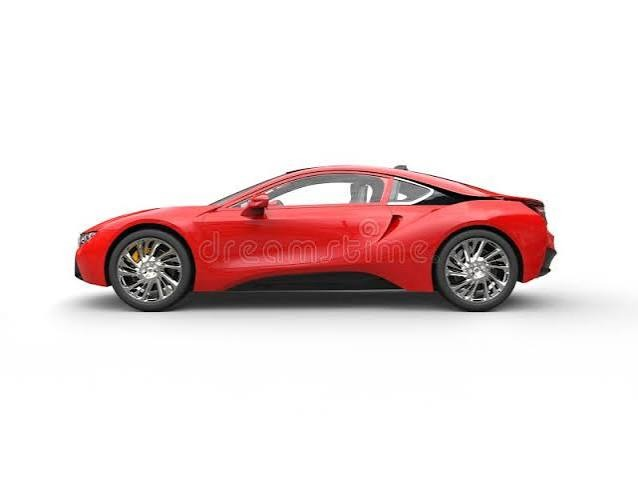car: (101, 163, 550, 310)
